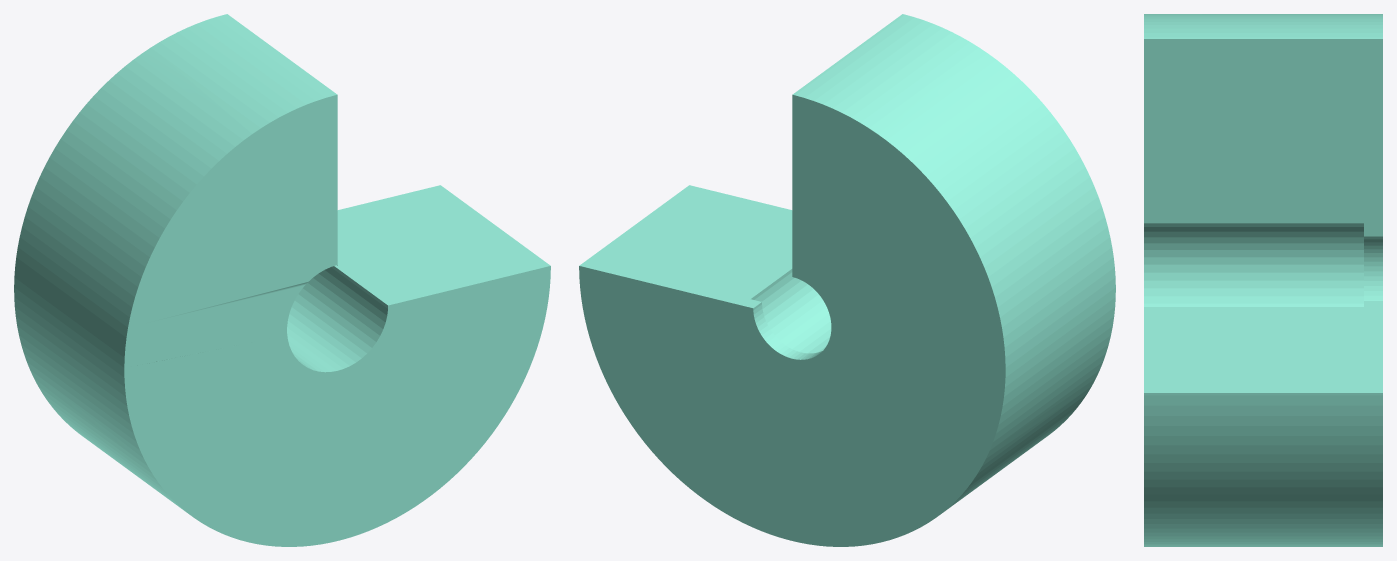
Rendered from Lar-HEC-SideA-cut4.glb.
The picture shows the model from 3 angles, left to right: view 1: azimuth 30°, elevation 25°; view 2: azimuth 150°, elevation 25°; view 3: azimuth 270°, elevation 25°; orthographic projection. The views are drawn at different scales.
Visible parts, largest first — view 1: null.001; view 2: null.001; view 3: null.001.
Part boxes in pixels (bbox=[...]): null.001: bbox=[14, 14, 550, 546]; null.001: bbox=[579, 14, 1115, 546]; null.001: bbox=[1144, 14, 1382, 546].
Size of the model in its own units: 4.06 by 4.06 by 1.82.
